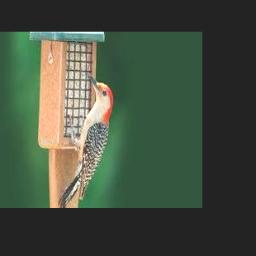Woodpecker: (59, 72, 113, 206)
